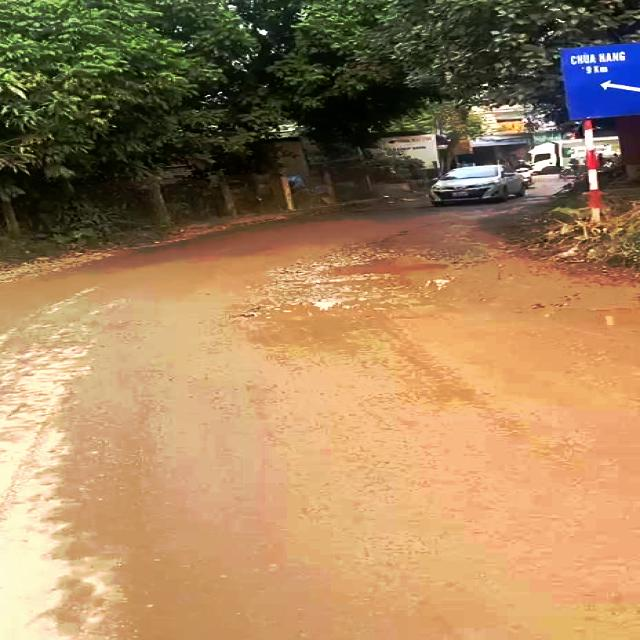pothole: (247, 292, 404, 325), (312, 248, 452, 283)
